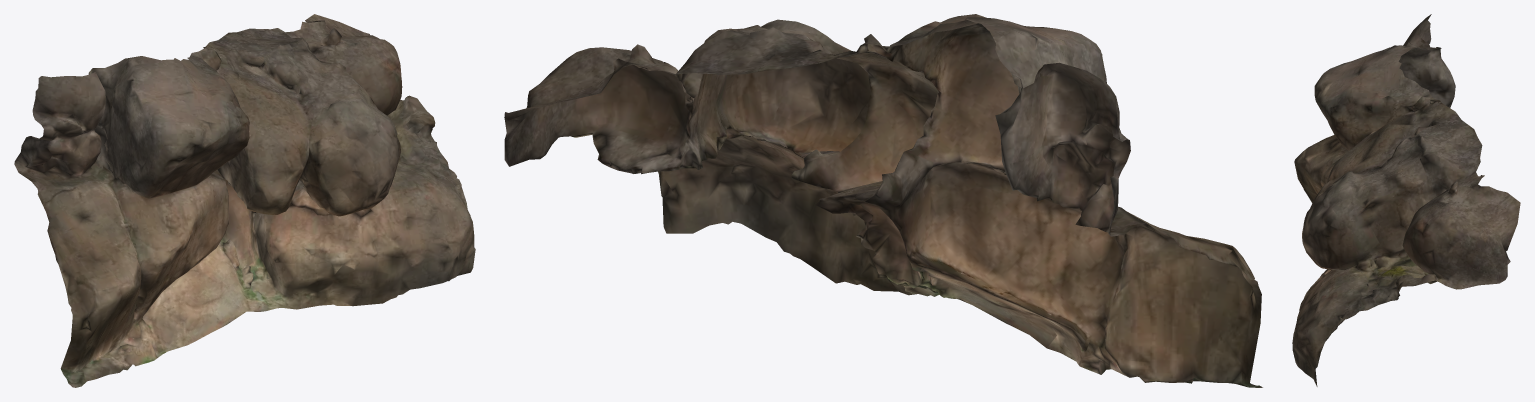
The model's file is namaqualand_cliff_01.glb.
3 renders of one model, left to right at view 1: azimuth 30°, elevation 25°; view 2: azimuth 150°, elevation 25°; view 3: azimuth 270°, elevation 25°, orthographic. The views are drawn at different scales.
Visible parts, largest first — view 1: drone_rock_01; view 2: drone_rock_01; view 3: drone_rock_01.
Part boxes in pixels (<box>): drone_rock_01: <box>14,14,475,387</box>; drone_rock_01: <box>504,14,1262,387</box>; drone_rock_01: <box>1292,14,1520,386</box>.
Bounding box in the file's own units: 8.27 × 4.96 × 4.38.
1 material, 1 textured.
